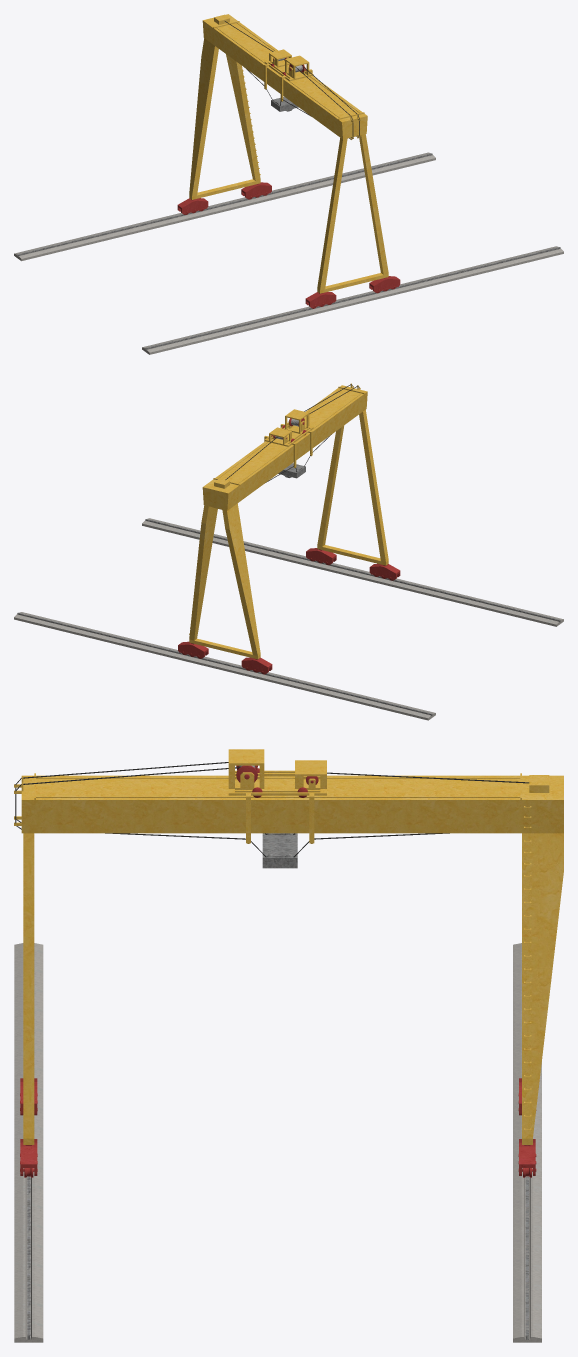
File: sf-gantry.glb
3 renders of one model, top to bottom at view 1: azimuth 30°, elevation 25°; view 2: azimuth 150°, elevation 25°; view 3: azimuth 270°, elevation 25°, orthographic. The views are drawn at different scales.
Parts seen in each view (by area): view 1: crane, tracks, hook_cart; view 2: crane, tracks, hook_cart; view 3: crane, tracks, hook_cart, cables_2, hook.
Boxes of the visible parts, bbox=[...] form: crane: bbox=[177, 14, 400, 308]; tracks: bbox=[14, 152, 563, 354]; hook_cart: bbox=[264, 49, 313, 101]; crane: bbox=[178, 383, 400, 674]; tracks: bbox=[14, 518, 563, 720]; hook_cart: bbox=[264, 409, 313, 467]; crane: bbox=[14, 773, 563, 1177]; tracks: bbox=[14, 943, 541, 1342]; hook_cart: bbox=[228, 749, 326, 843]; cables_2: bbox=[15, 762, 449, 857]; hook: bbox=[262, 833, 297, 868].
Bounding box in the file's own units: 25.64 × 11.83 × 15.13.
10 materials, 8 textured.
